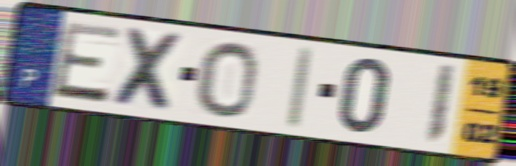0: (335, 55, 394, 136)
E: (48, 20, 125, 107)
I: (422, 62, 458, 148), (284, 45, 316, 132)
O: (194, 39, 260, 120)
X: (109, 24, 188, 116)
